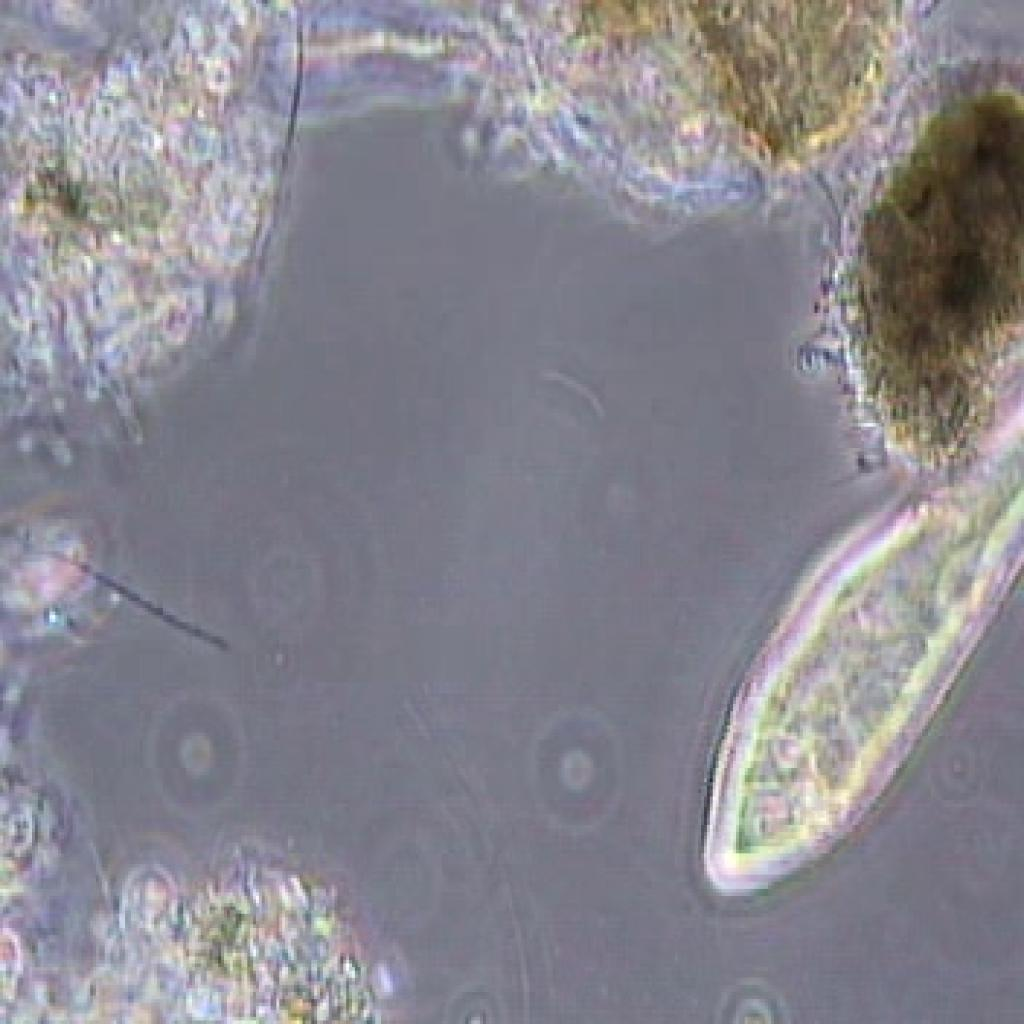Paramecium: (669, 432, 1021, 905)
